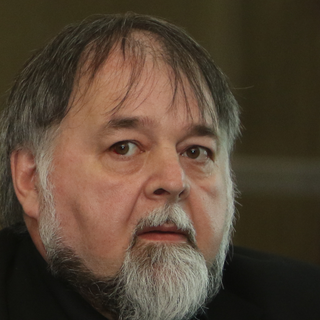eye: (102, 136, 149, 164), (174, 139, 217, 167)
